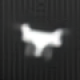plane: (14, 21, 70, 61)
